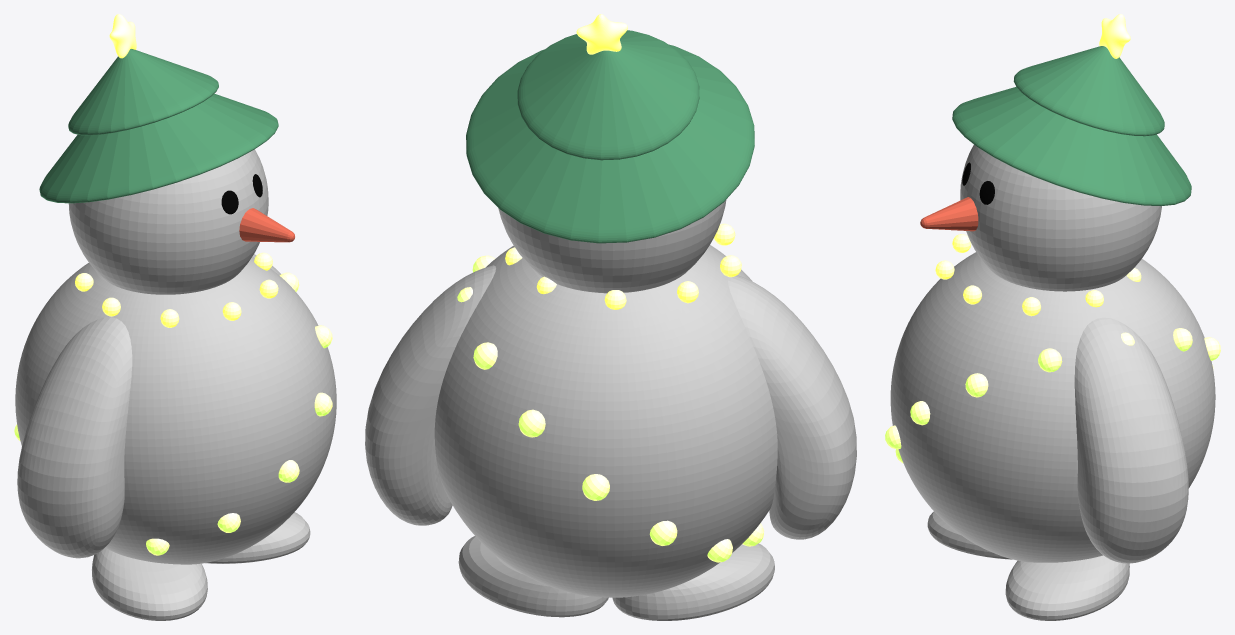
Rendered from 눈사람-트리.gltf.
3 views of the same model, side by side, from view 1: azimuth 30°, elevation 25°; view 2: azimuth 150°, elevation 25°; view 3: azimuth 270°, elevation 25° (orthographic). The views are drawn at different scales.
Visible parts, largest first — view 1: Sphere (×2), Cube, Cone (×2), Cylinder, Cone.1, Volume Mesher, eye; view 2: Sphere (×2), Cube, Cone, Cone.1, Cylinder, Volume Mesher; view 3: Sphere (×2), Cube, Cone (×2), Cone.1, Cylinder, Volume Mesher, Sphere.6.
Boxes of the visible parts, x1,y1,x2,y2 form: Sphere (×2): [15, 149, 336, 564]; Cube: [17, 254, 280, 558]; Cone (×2): [39, 93, 294, 242]; Cylinder: [92, 512, 310, 620]; Cone.1: [68, 49, 218, 135]; Volume Mesher: [109, 14, 136, 58]; eye: [221, 174, 262, 214]; Sphere (×2): [434, 200, 777, 597]; Cube: [365, 265, 856, 539]; Cone: [466, 44, 754, 243]; Cone.1: [517, 30, 699, 160]; Cylinder: [458, 536, 774, 620]; Volume Mesher: [576, 14, 627, 54]; Sphere (×2): [890, 145, 1215, 562]; Cube: [1074, 317, 1188, 563]; Cone (×2): [920, 87, 1191, 231]; Cone.1: [1013, 46, 1164, 136]; Cylinder: [927, 511, 1129, 620]; Volume Mesher: [1099, 14, 1130, 58]; Sphere.6: [1038, 348, 1062, 372].
Bounding box in the file's own units: 252 × 367 × 209.
